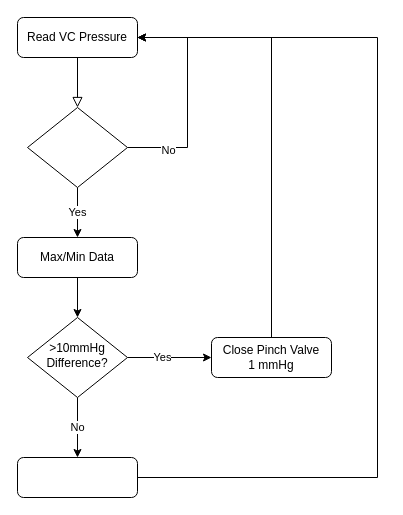
Image size: 403x515. Some labels were removed from this diagram. The shapes that lost their labels are listed below. From the top down, each one's centre as x and y in pixels, then its label:
At point 77,147: "30s Collection".
At point 77,477: "Open Pinch Valve 1 mmHg/hr".
